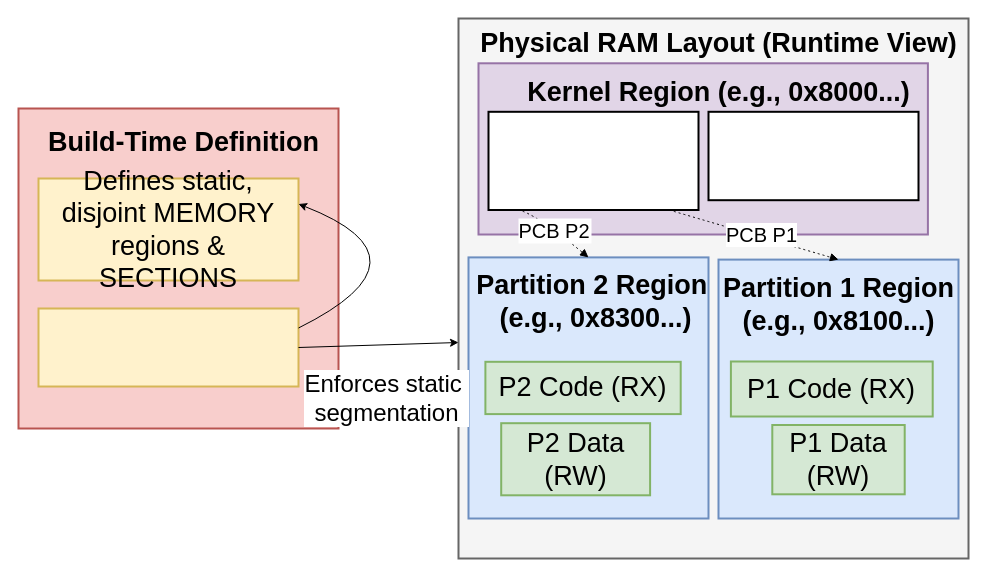
The diagram is 986 pixels wide and 576 high, and some of its shapes have lost their labels. Each missing label, with the centre of its shape:
"Linker Script (riscv32-qemu.ld)" belongs at point 168,347.
"Partition Control Blocks (PCBs) Metadata" belongs at point 593,160.
"ucx-os Nano-Kernel Code/Data" belongs at point 813,155.
